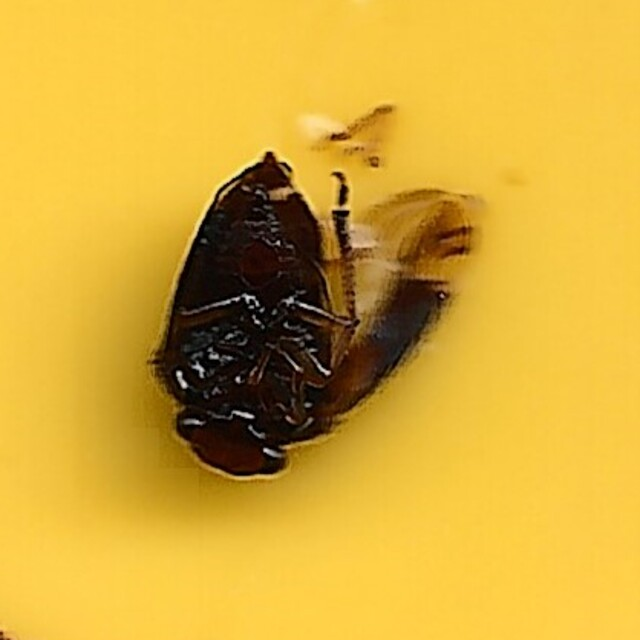Hemiptera: (153, 155, 487, 485)
